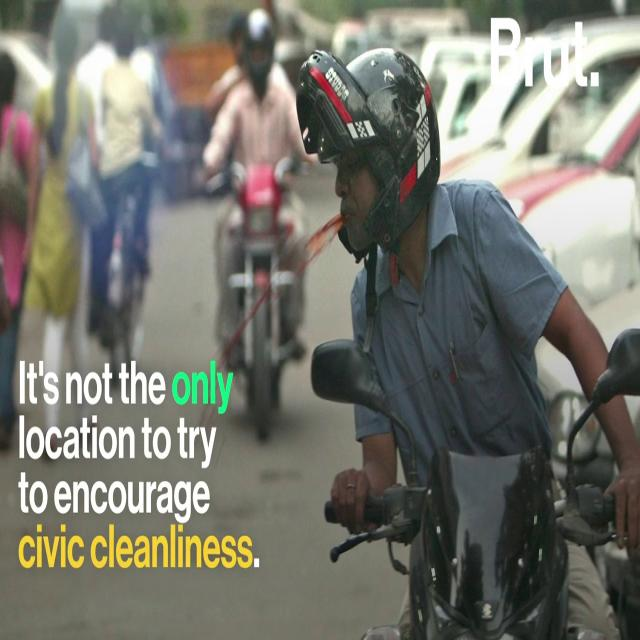spit: (212, 174, 392, 378)
